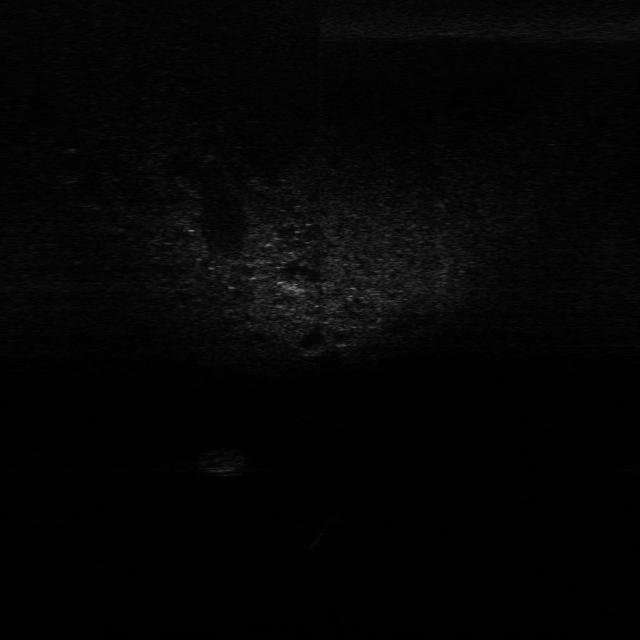circle cage: (192, 441, 248, 478)
cylinder: (307, 512, 337, 552)
